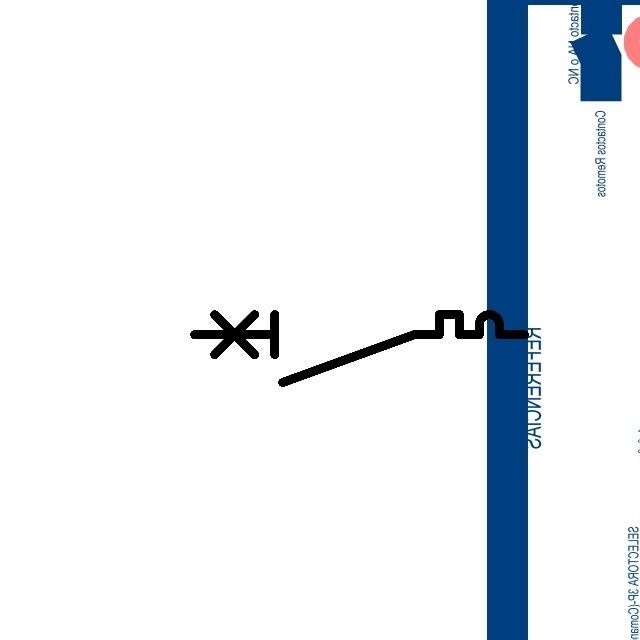interruptor_termomagnetico: (186, 306, 533, 391)
